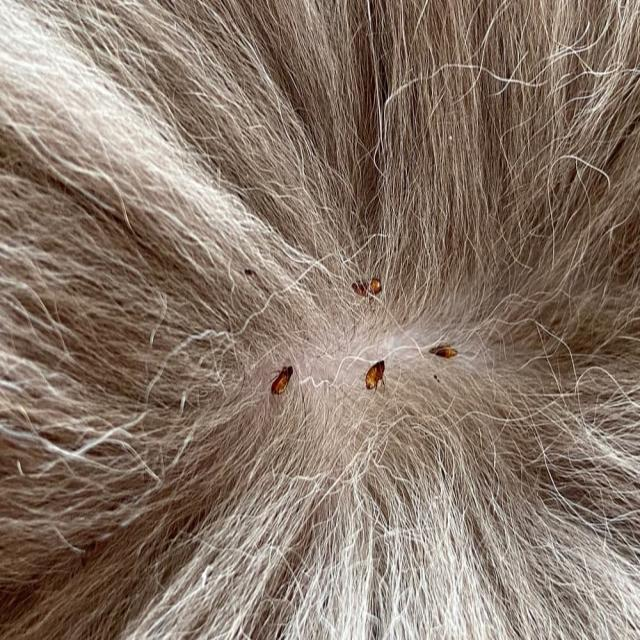di ung bo chet: (152, 215, 568, 499)
